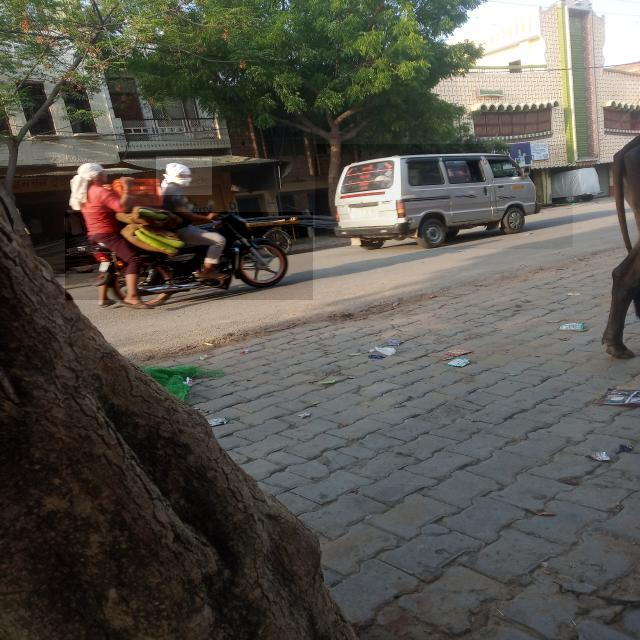Bike: (65, 212, 313, 300)
No_Helmet: (156, 156, 212, 195)
Travller: (315, 144, 573, 249)
